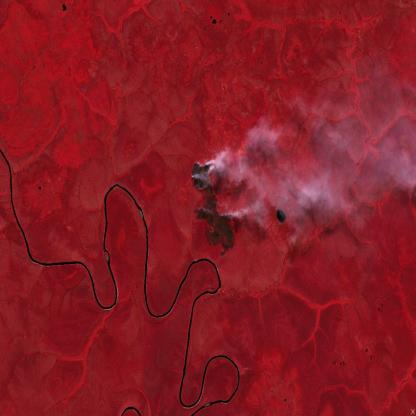fire: (180, 150, 252, 262)
